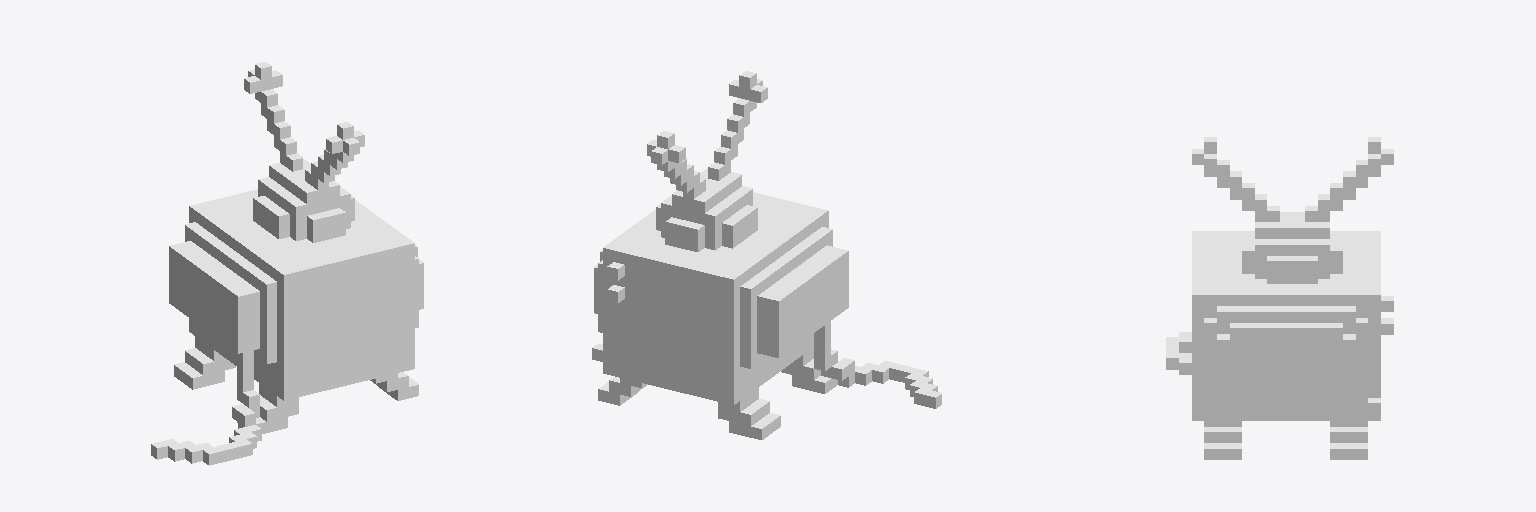
The model's file is tv_voxel.obj.
3 views of the same model, side by side, from view 1: azimuth 30°, elevation 25°; view 2: azimuth 150°, elevation 25°; view 3: azimuth 270°, elevation 25° (orthographic).
Visible parts, largest first — view 1: object 1; view 2: object 1; view 3: object 1.
Boxes of the visible parts, <box> form: object 1: <box>151,62,423,465</box>; object 1: <box>592,71,941,439</box>; object 1: <box>1166,137,1393,459</box>.
Bounding box in the file's own units: 2.5 × 2.5 × 1.8.